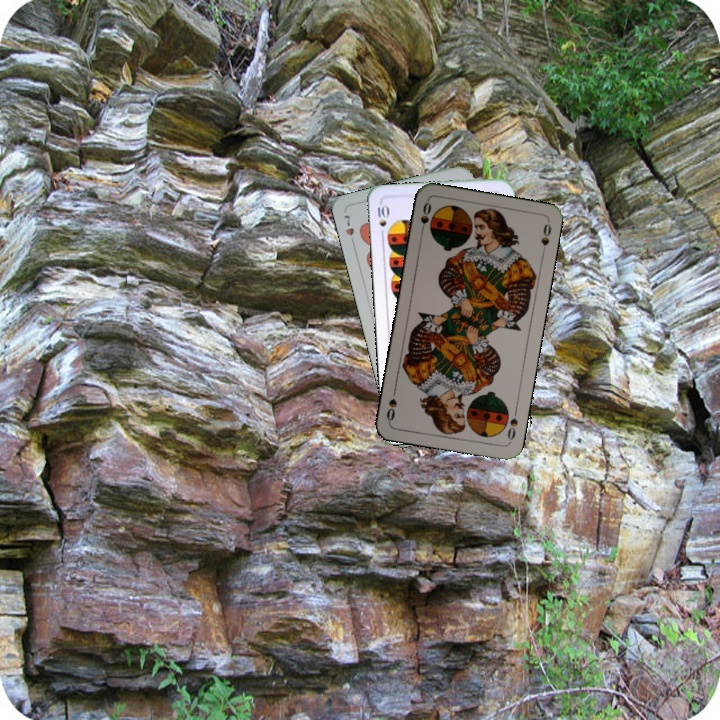H7: (340, 211, 358, 249)
S10: (373, 199, 391, 240)
SO: (416, 197, 434, 238), (503, 404, 520, 445)
